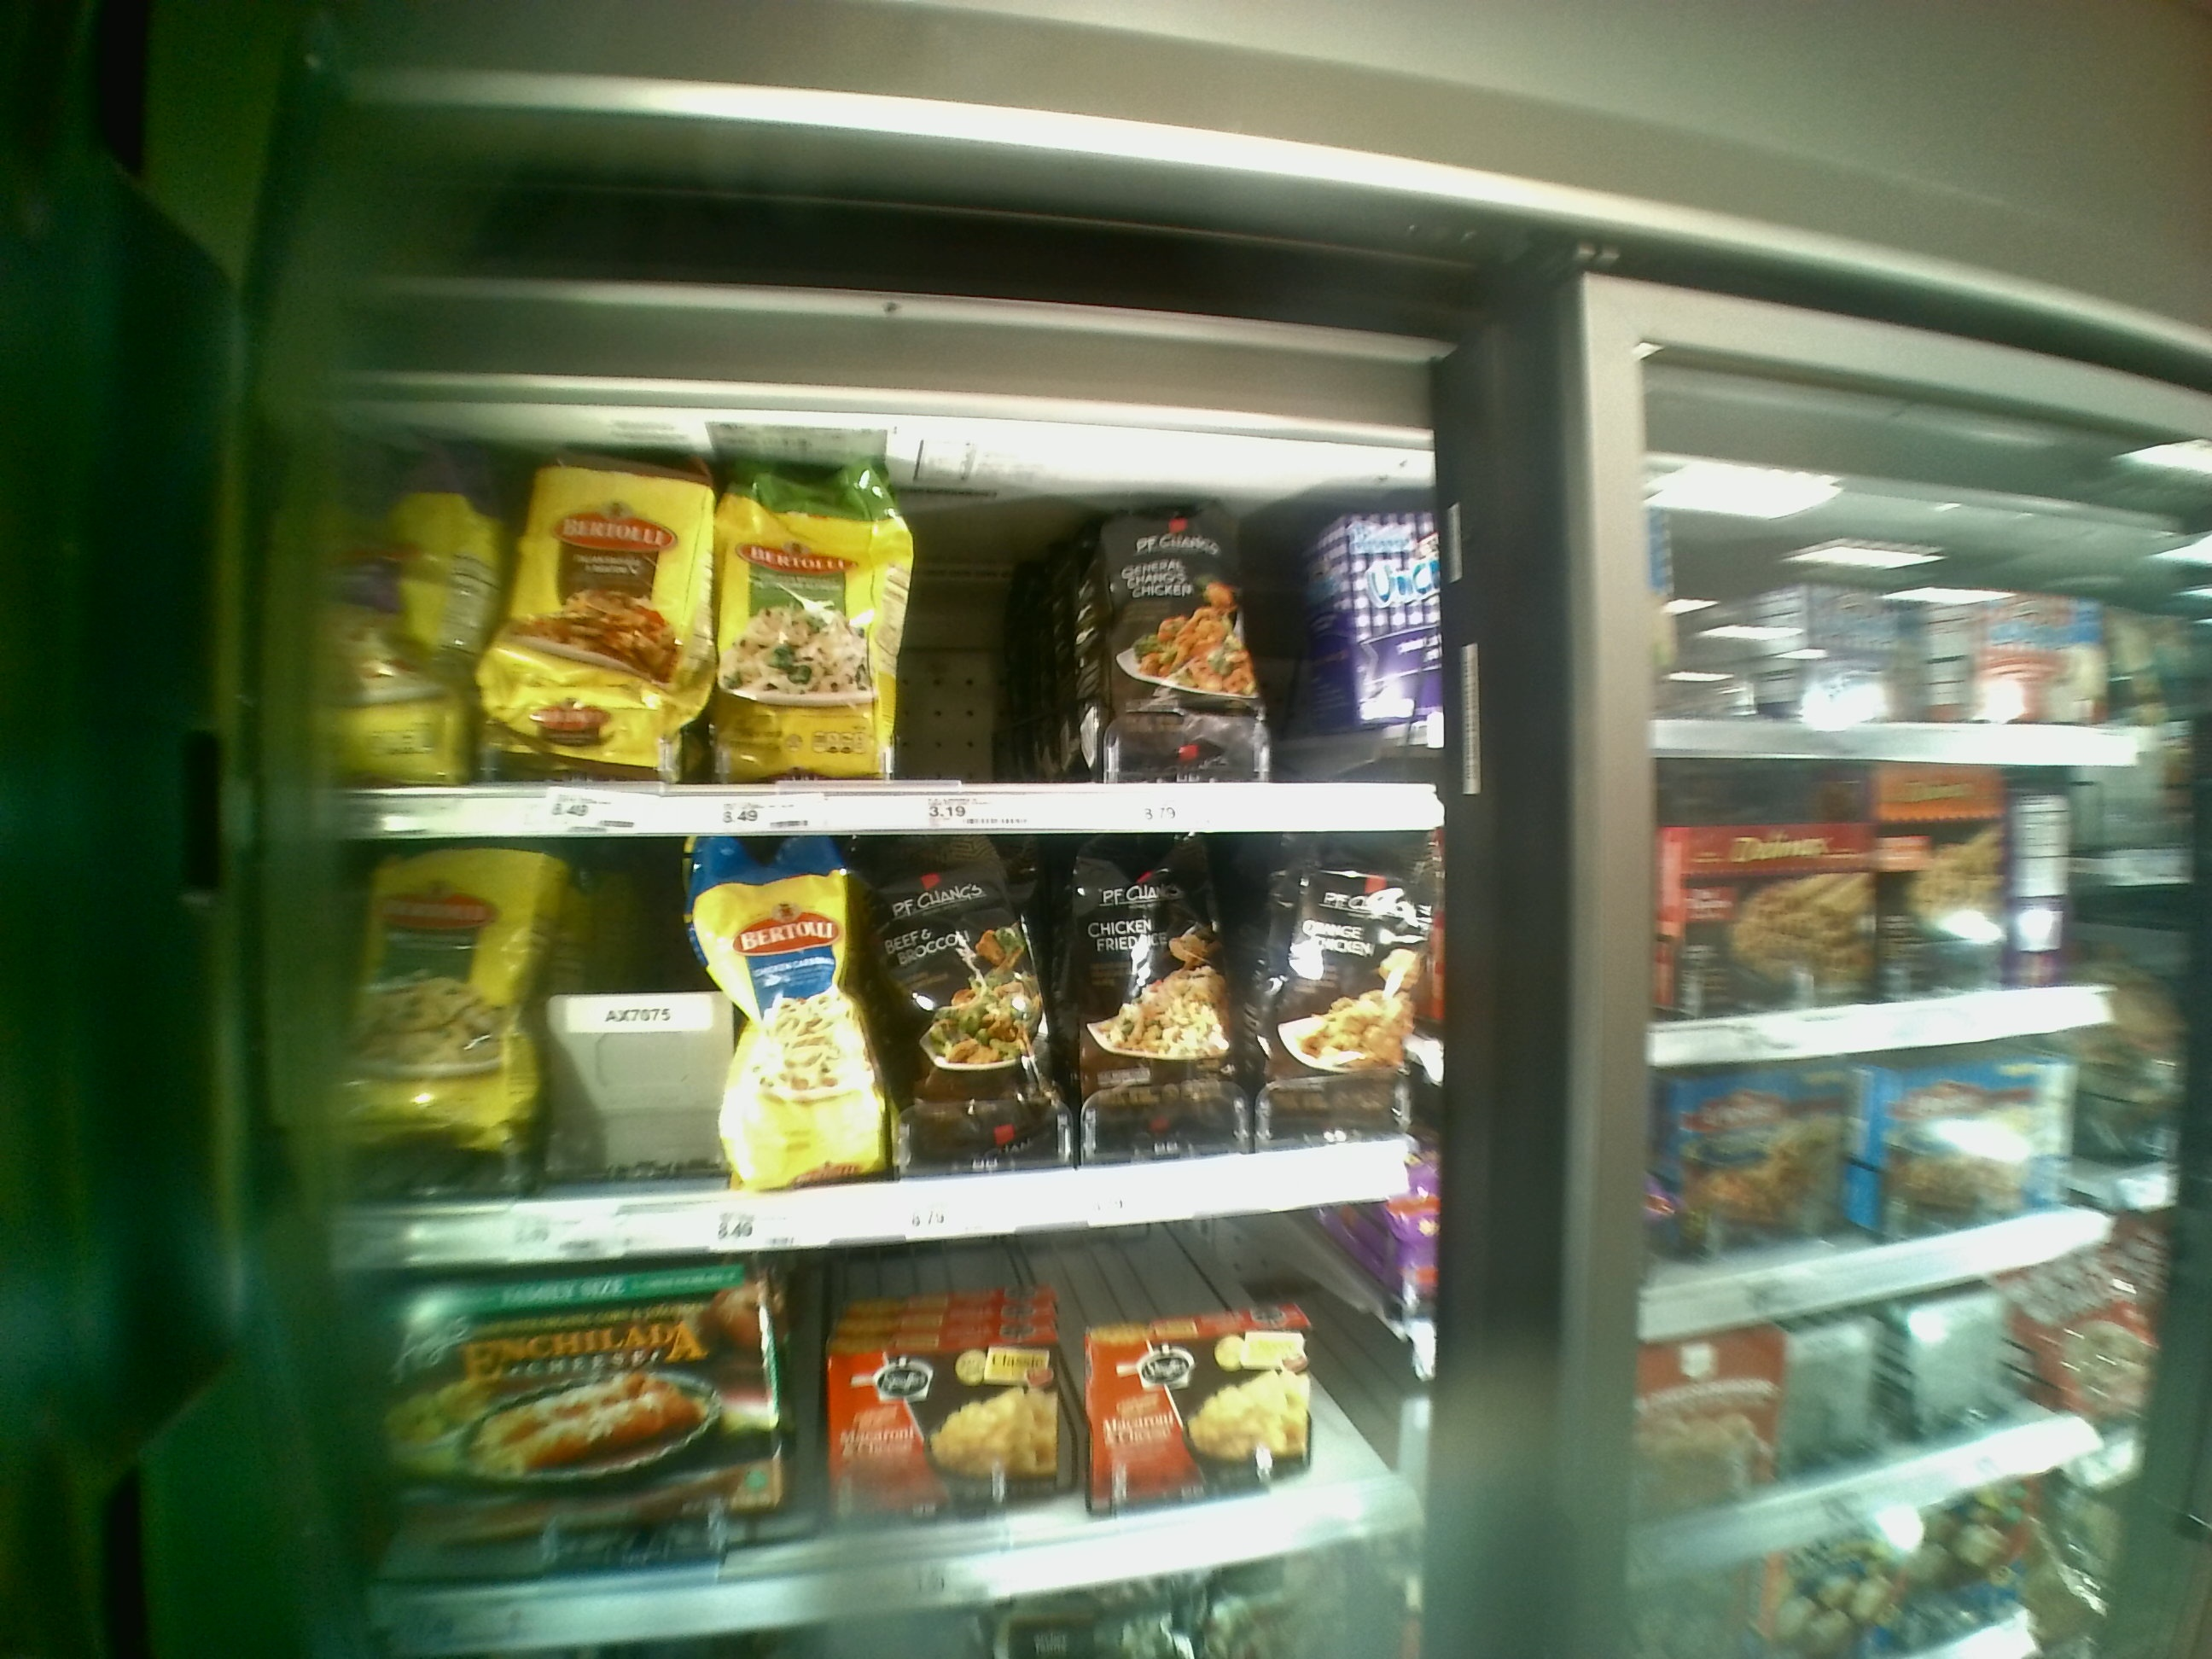shelf: (348, 406, 1432, 836), (355, 840, 1411, 1265), (369, 1236, 1413, 1615)
